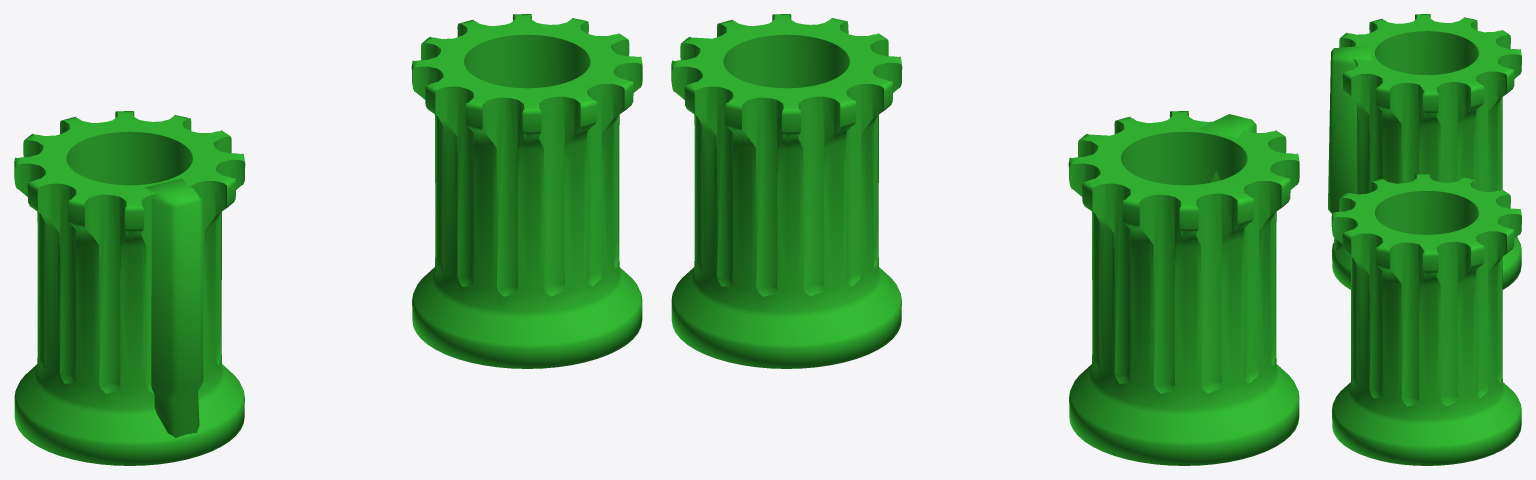
File: tower_long.glb
3 renders of one model, left to right at view 1: azimuth 30°, elevation 25°; view 2: azimuth 150°, elevation 25°; view 3: azimuth 270°, elevation 25°, orthographic. The views are drawn at different scales.
Visible parts, largest first — view 1: knob_tower_long_body, knob_vol_tower_long_body; view 2: knob_vol_tower_long_body, knob_tower_long_body; view 3: knob_tower_long_body, knob_vol_tower_long_body.
Part boxes in pixels (left/top/right/bottom): knob_tower_long_body: left=411, top=14, right=642, bottom=368; knob_vol_tower_long_body: left=14, top=111, right=245, bottom=465; knob_vol_tower_long_body: left=1068, top=111, right=1299, bottom=465; knob_tower_long_body: left=671, top=14, right=902, bottom=368; knob_tower_long_body: left=1331, top=173, right=1521, bottom=465; knob_vol_tower_long_body: left=1328, top=14, right=1521, bottom=289.
Size of the model in its own units: 0.0352 by 0.0147 by 0.012.
